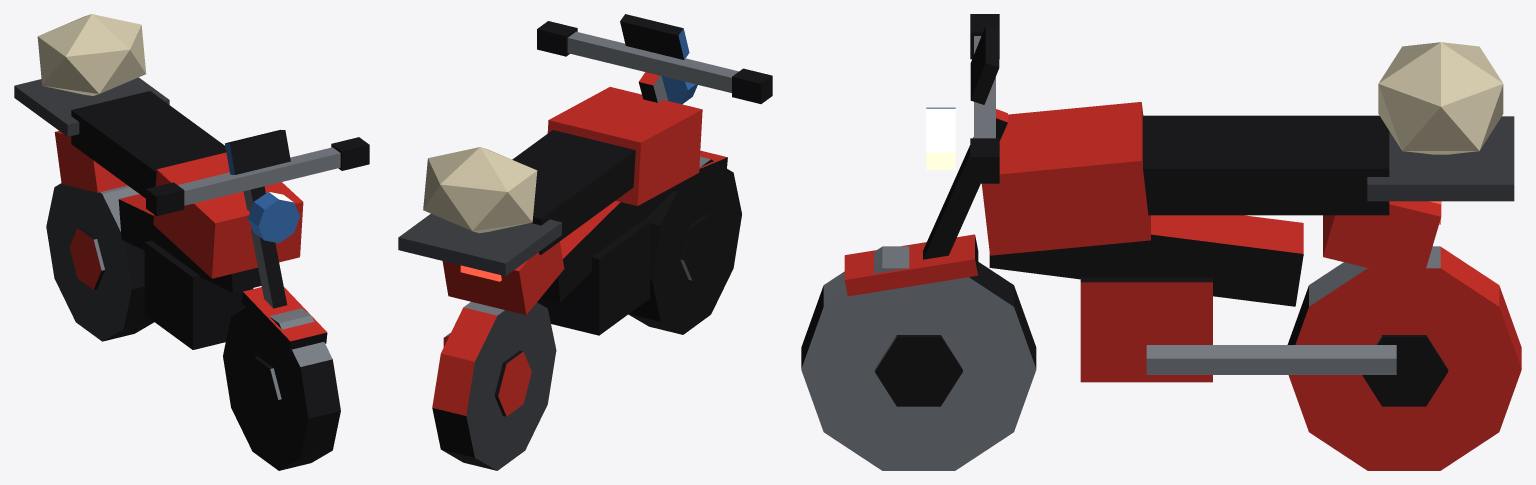
File: Mototaxi.fbx
3 renders of one model, left to right at view 1: azimuth 30°, elevation 25°; view 2: azimuth 150°, elevation 25°; view 3: azimuth 270°, elevation 25°, orthographic. The views are drawn at different scales.
Visible parts, largest first — view 1: Mototaxi; view 2: Mototaxi; view 3: Mototaxi.
Boxes of the visible parts, x1,y1,x2,y2 form: Mototaxi: (14, 14, 369, 470); Mototaxi: (398, 14, 772, 470); Mototaxi: (801, 14, 1521, 470).
Size of the model in its own units: 0.46 by 0.6272 by 0.98.
